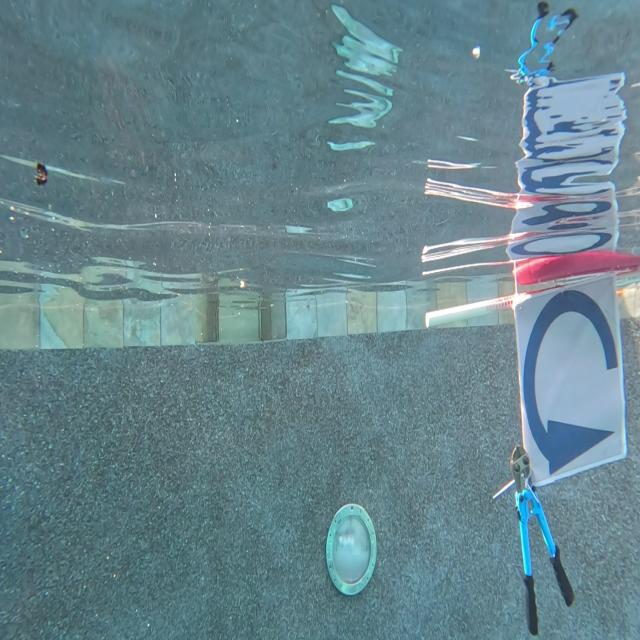blue_side: (518, 292, 626, 486)
